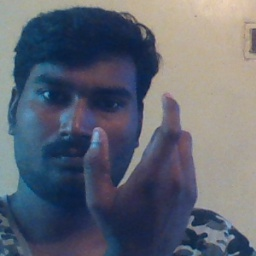U: (85, 86, 205, 240)
